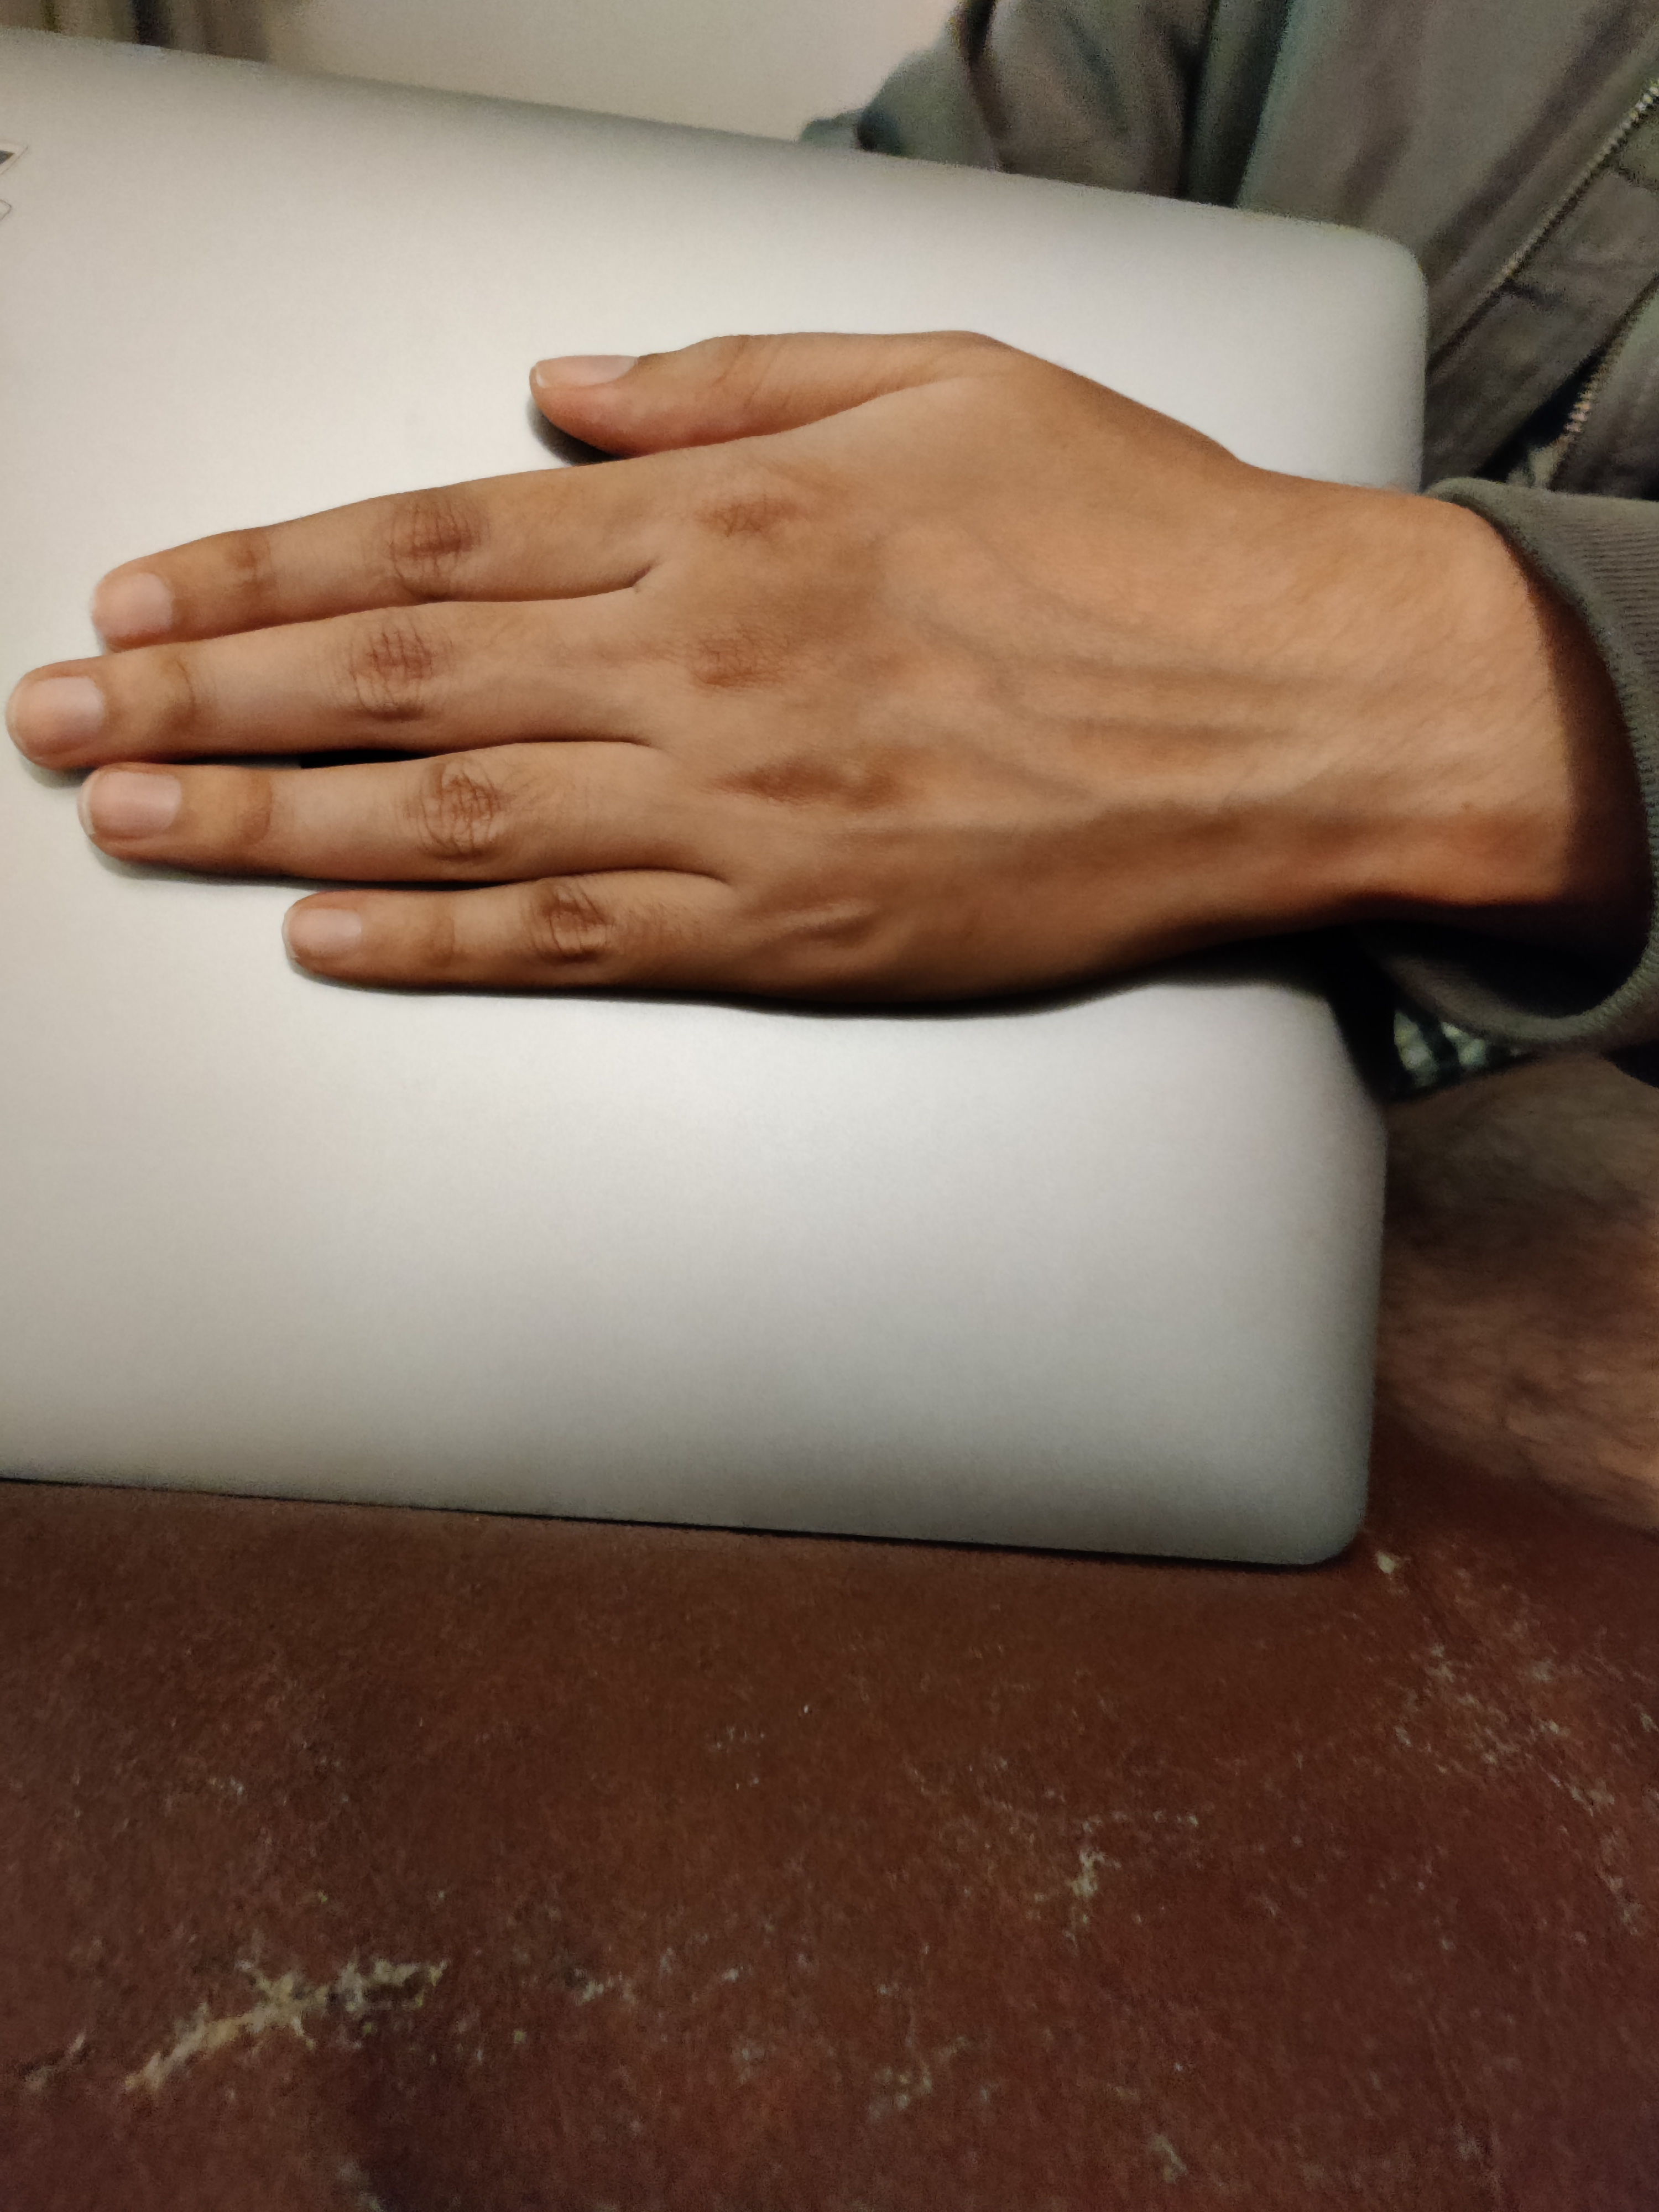right: (17, 246, 1568, 1339)
